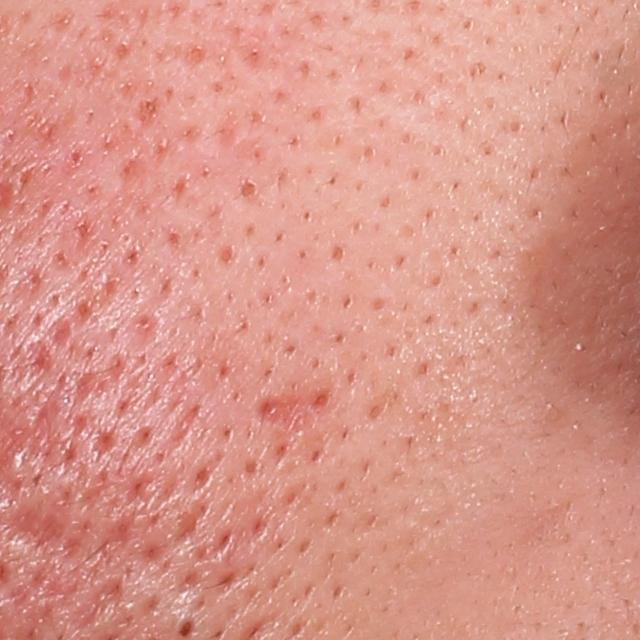atrophic_scar: (3, 508, 94, 575), (69, 574, 128, 637), (255, 395, 316, 439), (91, 511, 136, 564), (73, 357, 125, 399)
comedo: (233, 178, 262, 205), (329, 245, 348, 265)
